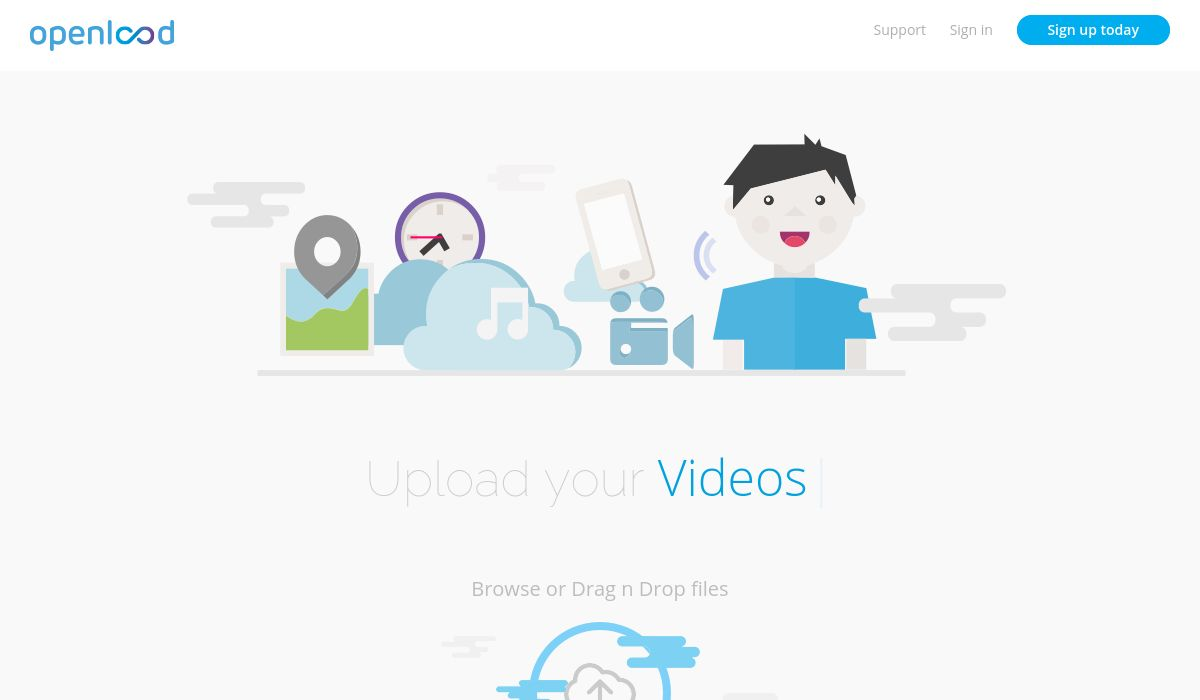menu: (1, 1, 1200, 68)
menu-button: (1015, 14, 1170, 47), (861, 14, 932, 44), (938, 14, 1009, 44)
menu-logo: (27, 11, 182, 53)
